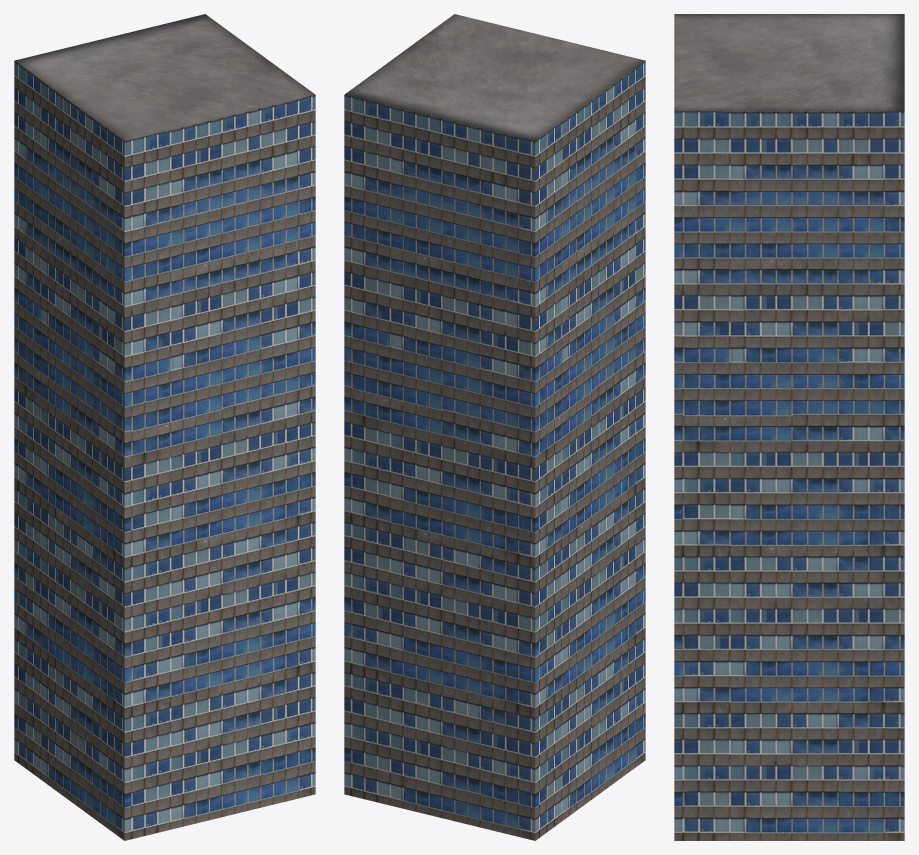
Rendered from SKY Screaper.FBX.
3 renders of one model, left to right at view 1: azimuth 30°, elevation 25°; view 2: azimuth 150°, elevation 25°; view 3: azimuth 270°, elevation 25°, orthographic. The views are drawn at different scales.
Visible parts, largest first — view 1: Box001; view 2: Box001; view 3: Box001.
Boxes of the visible parts, x1,y1,x2,y2 form: Box001: [14, 14, 315, 840]; Box001: [344, 14, 645, 840]; Box001: [674, 14, 904, 840].
Size of the model in its own units: 20 by 70 by 20.
1 material, 1 textured.
